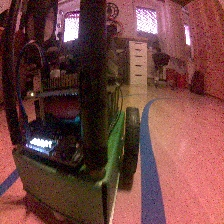rob: (11, 62, 142, 224)
